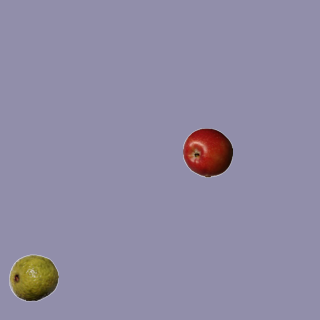Apple Braeburn: (182, 127, 232, 177)
Guava: (8, 252, 58, 302)
